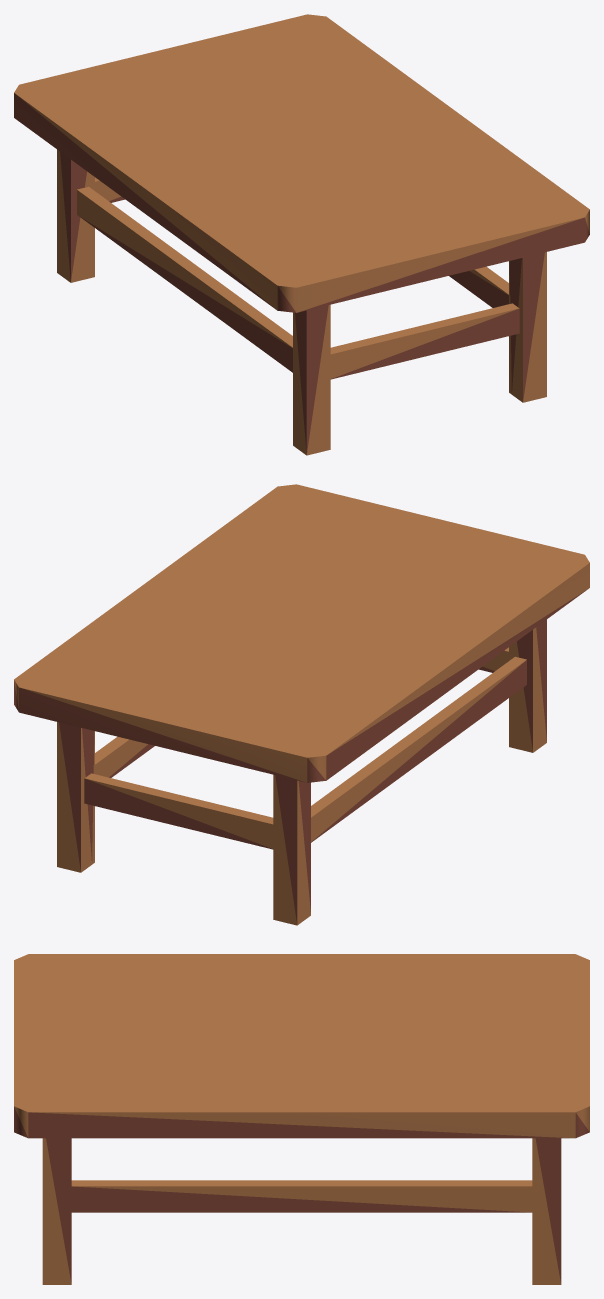
3 renders of one model, top to bottom at view 1: azimuth 30°, elevation 25°; view 2: azimuth 150°, elevation 25°; view 3: azimuth 270°, elevation 25°, orthographic. The views are drawn at different scales.
Visible parts, largest first — view 1: model; view 2: model; view 3: model.
Boxes of the visible parts, x1,y1,x2,y2 form: model: (14,14,589,455); model: (14,484,589,925); model: (14,954,589,1284).
Bounding box in the file's own units: 1.62 × 0.9138 × 2.5.
